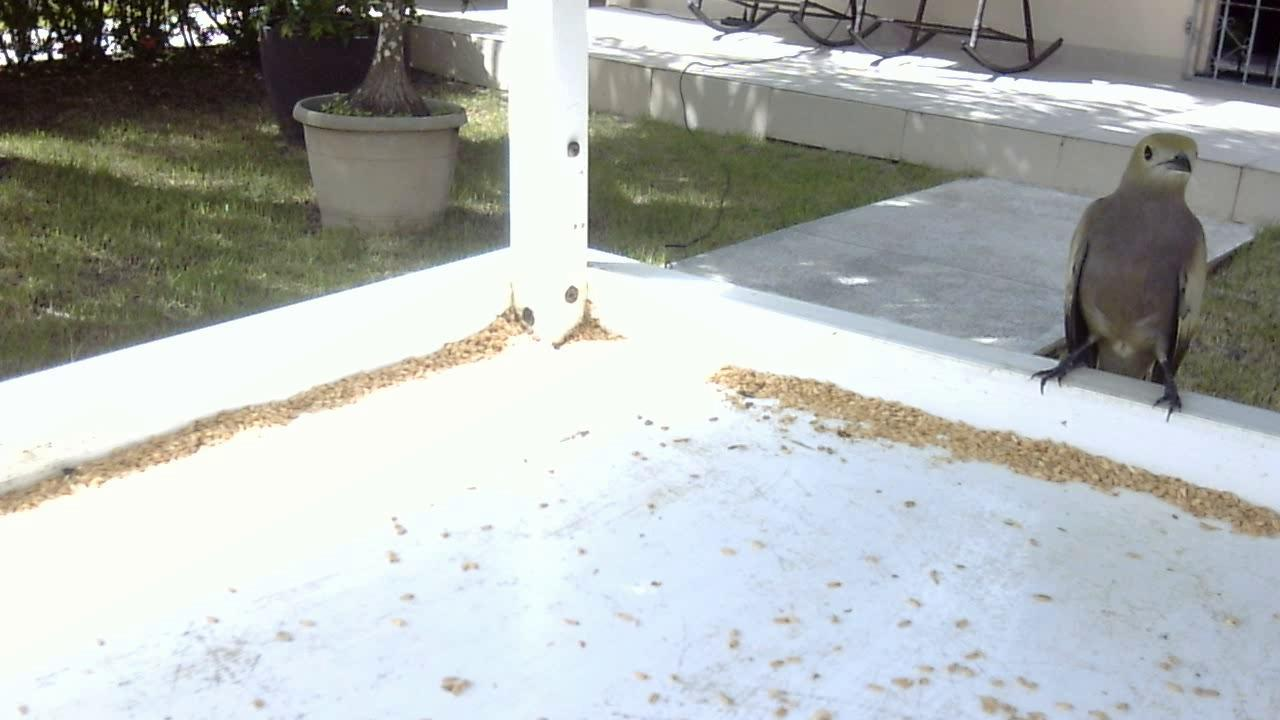sanhaco_do_coqueiro: (1030, 126, 1216, 423)
